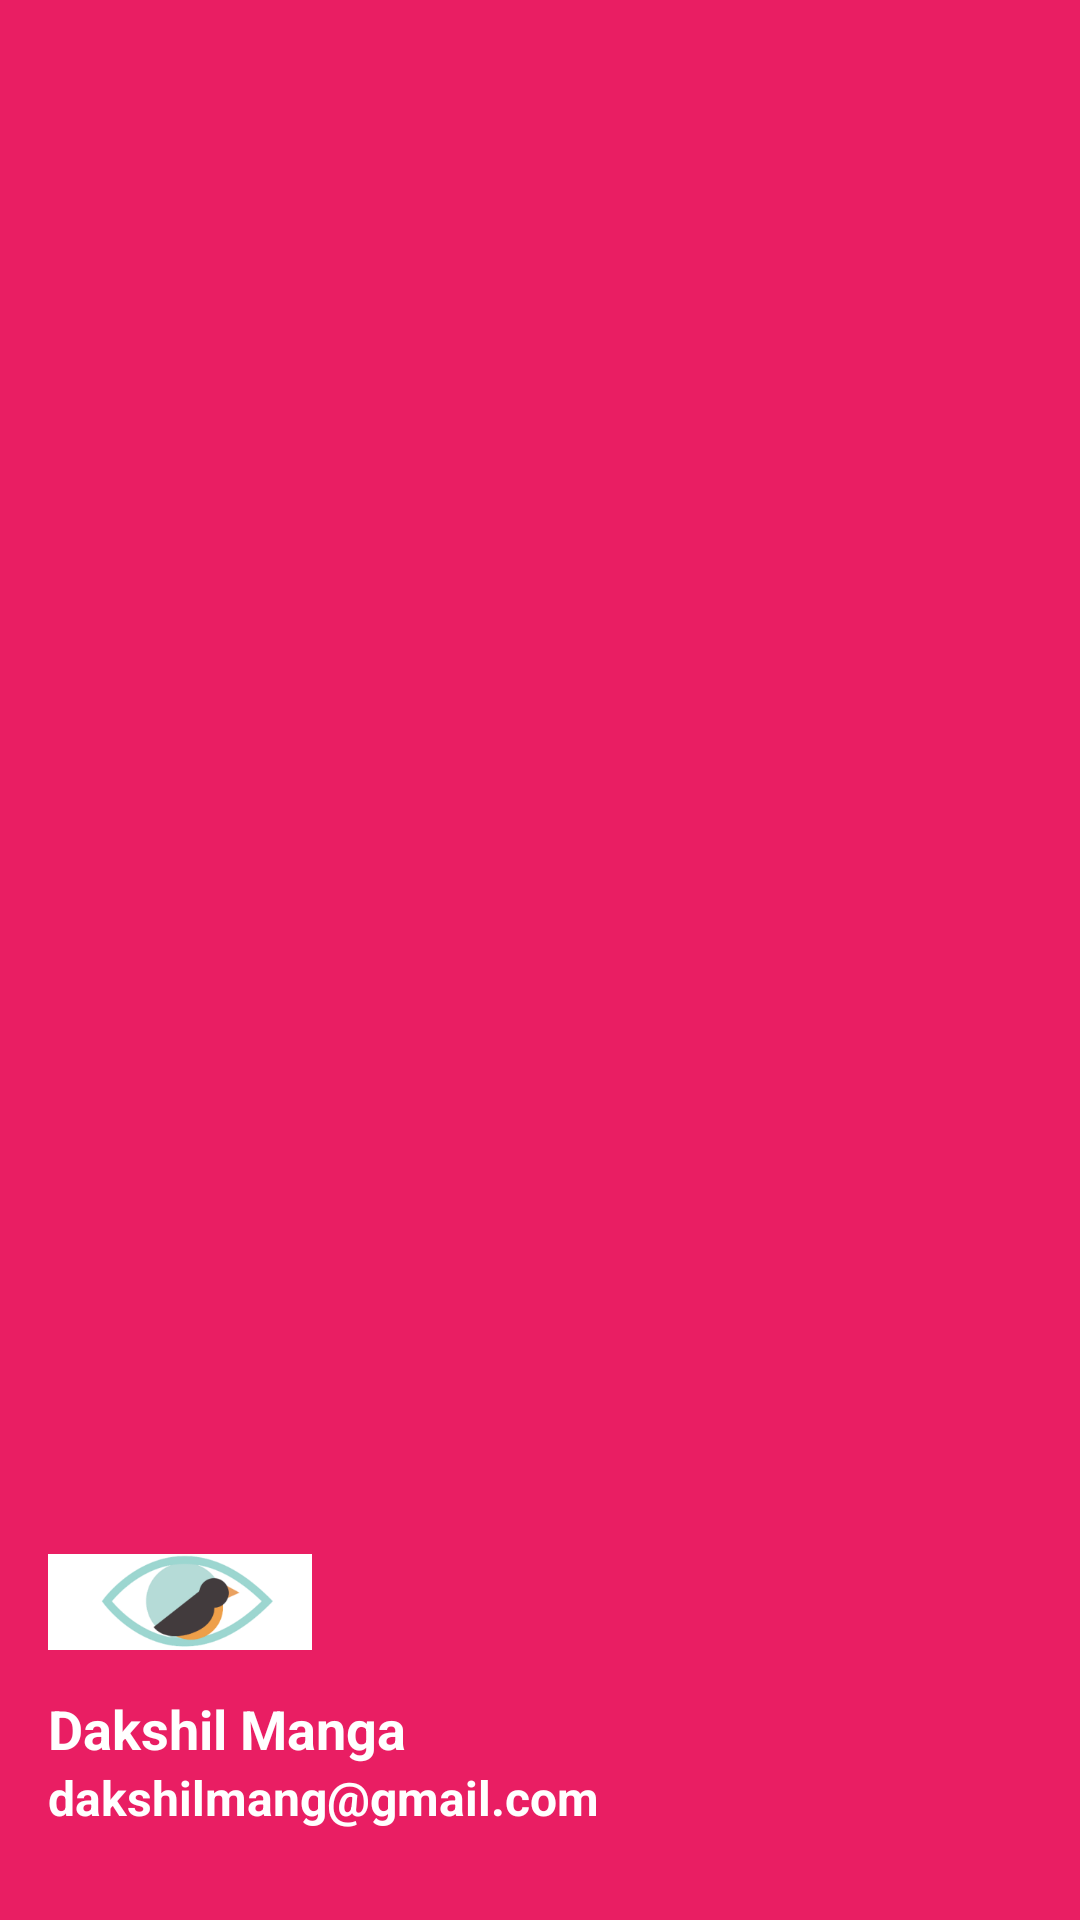

Where to tap for icons on this 1080 x 1920 app screen, as point (x, y):
eye pic: point (180, 1602)
